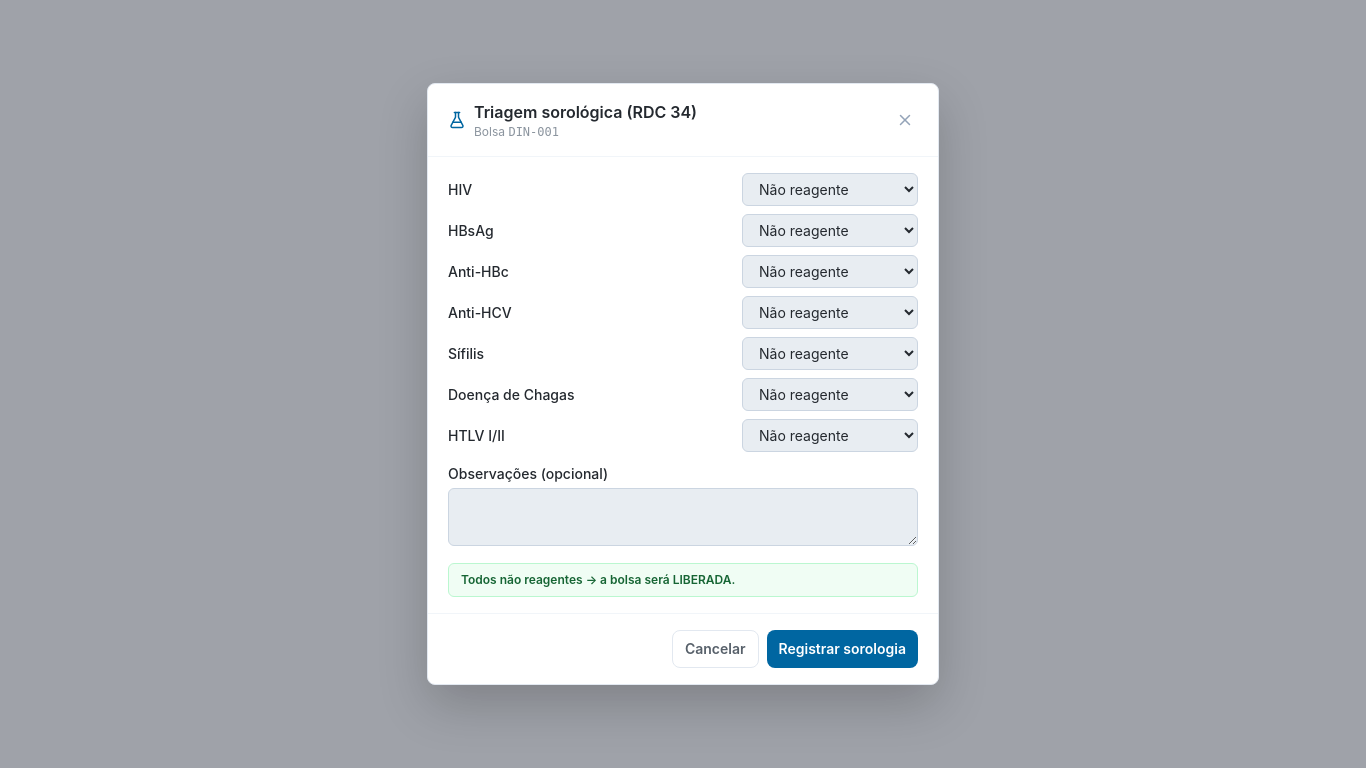
Test: SerologyModal › surfaces a 409 (bag not in quarantine) as a friendly message
The width and height of the screenshot is (1366, 768).
Click the button "Registrar sorologia" at (842, 649), box top-left (766, 630), bottom-right (918, 668)
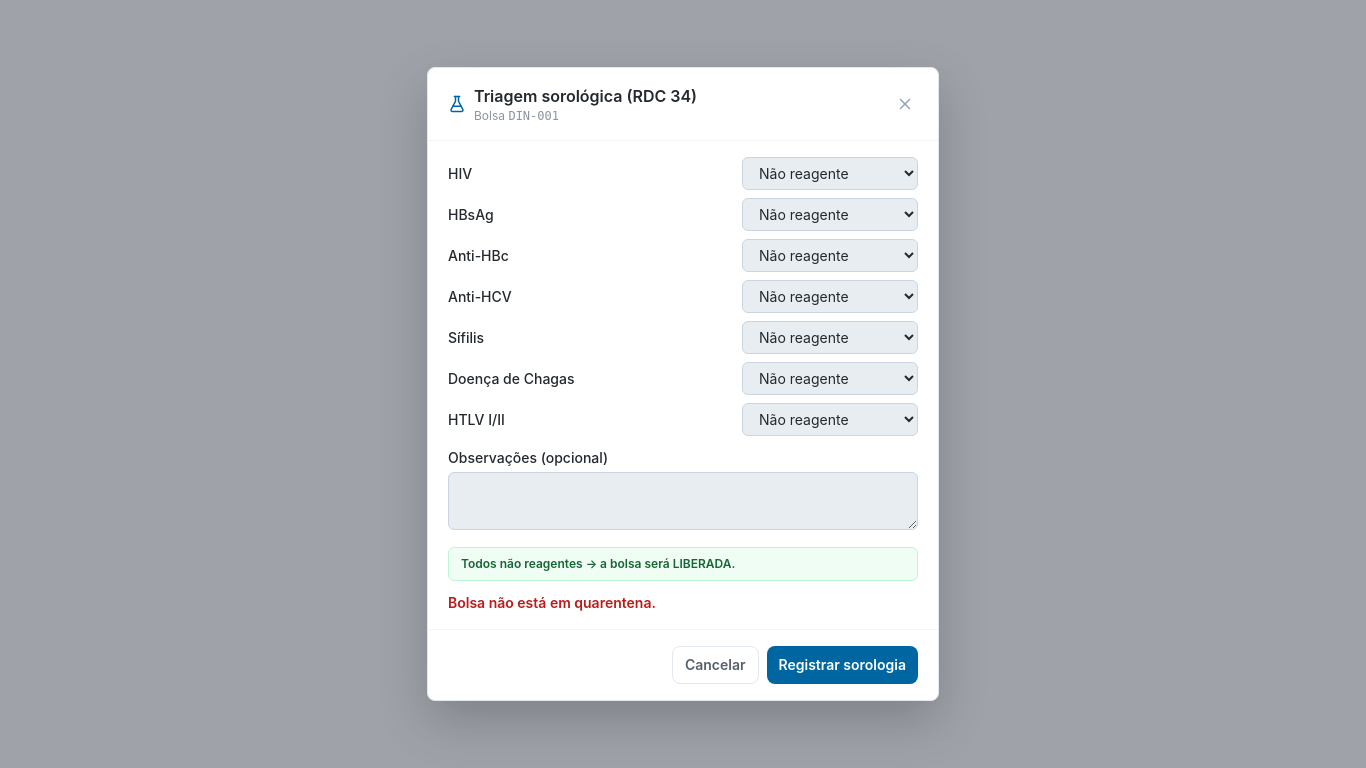
Check: the text "Bolsa não está em quarentena." is shown, box top-left (448, 594), bottom-right (656, 611)
